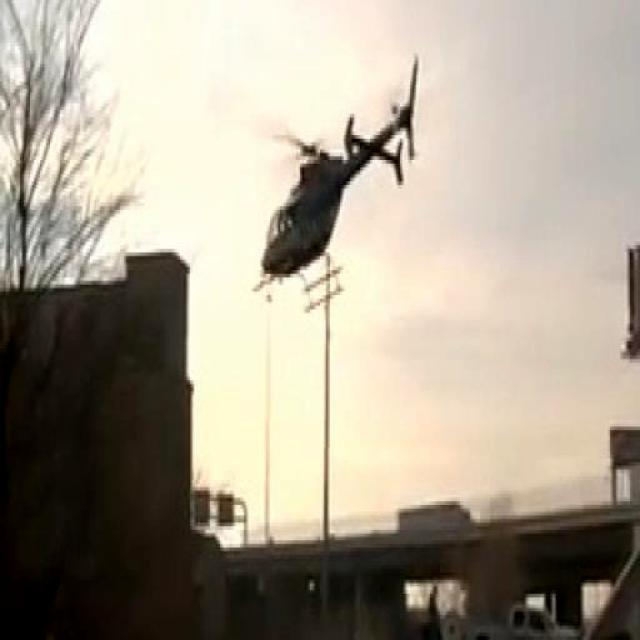drone: (251, 52, 422, 311)
